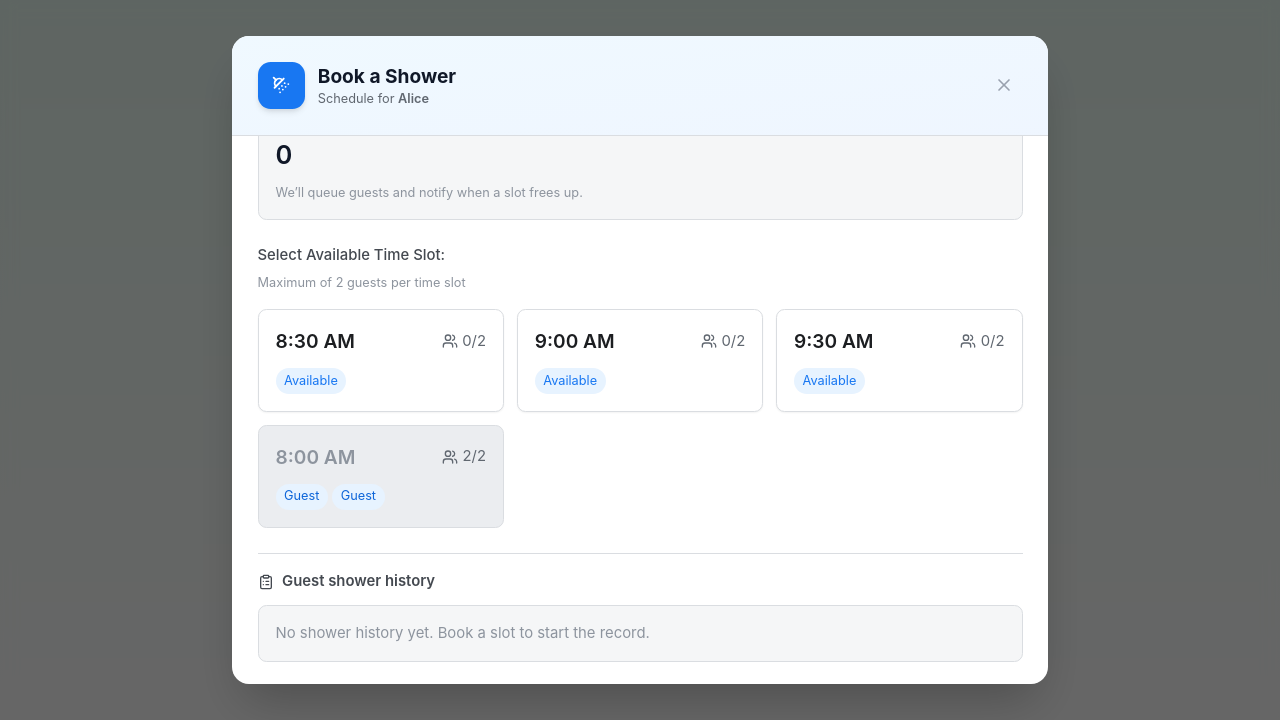
Test: ShowerBooking › disables booking buttons while booking is in progress
This screenshot has width=1280, height=720.
(page scrolled)
# Click to start booking
What coordinates should you click on to do the following:
click the button "8:30 AM 0/2 Available"
I would click on:
 (381, 360)
Its box is [258,309,504,412].
(page scrolled)
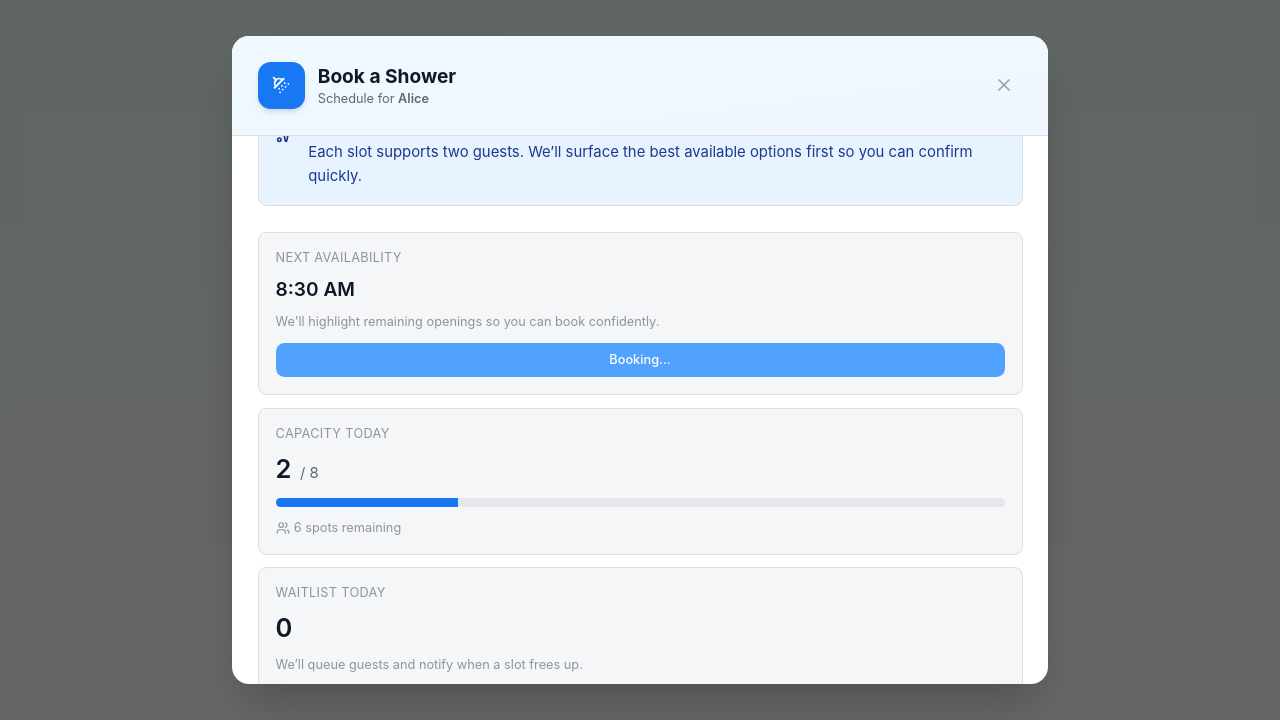
Result: the button "Booking..." is disabled at [276,343,1004,377]
